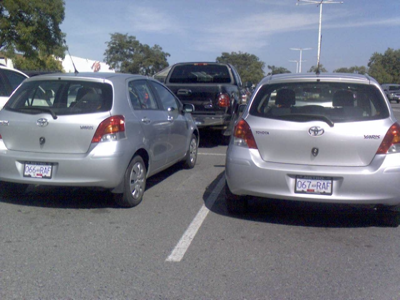licence: (296, 177, 332, 196), (23, 162, 54, 180)
